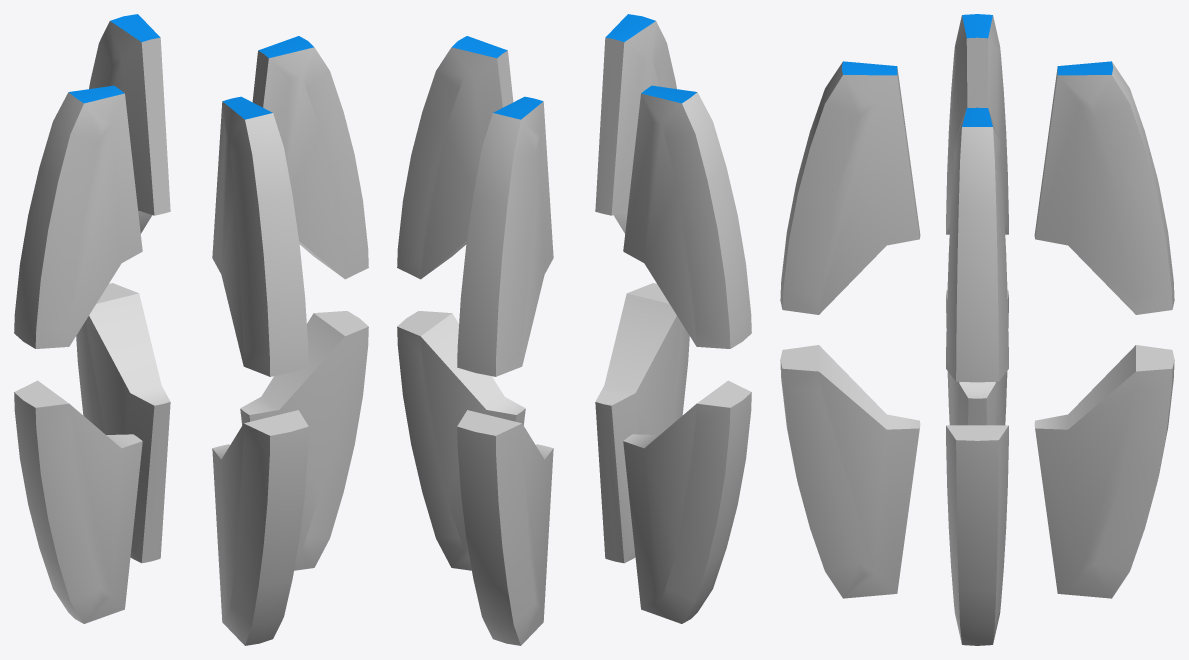
Rendered from tower002.fbx.
3 renders of one model, left to right at view 1: azimuth 30°, elevation 25°; view 2: azimuth 150°, elevation 25°; view 3: azimuth 270°, elevation 25°, orthographic.
Visible parts, largest first — view 1: tower002; view 2: tower002; view 3: tower002.
Part boxes in pixels (x1,y1,x2,y2): tower002: (14,14,368,645); tower002: (397,14,751,645); tower002: (780,14,1174,645).
Size of the model in its own units: 33.21 by 33.87 by 49.76.
